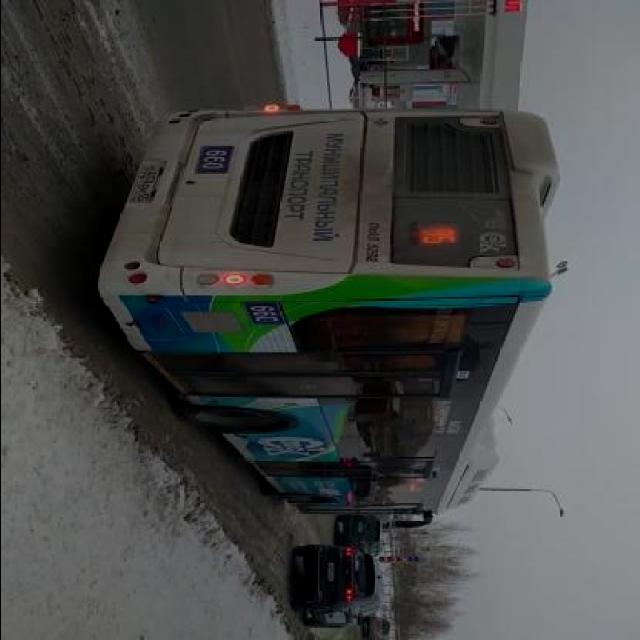bus: (96, 104, 564, 530)
